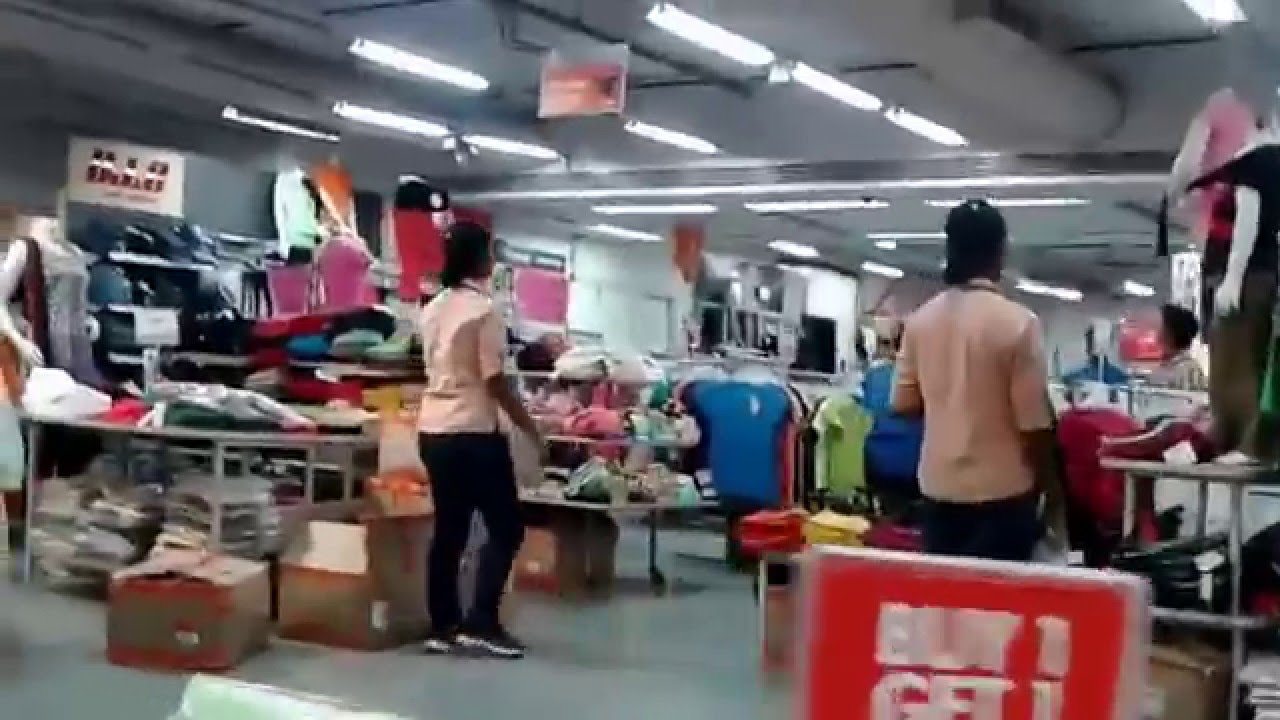Not_Face: (945, 210, 1010, 279), (442, 224, 502, 282)
